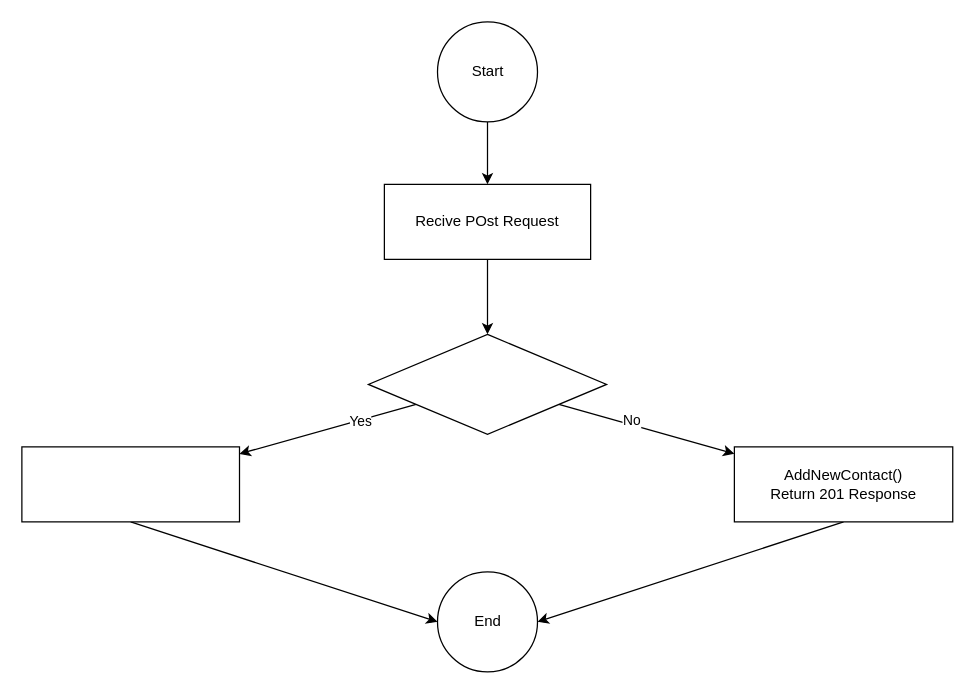
This 975x694 diagram has some shape labels left out. Each missing label, with the box of its shape:
Is Contact Available or Not?: (367, 333, 607, 434)
SendResponseError() Return 409: (21, 446, 240, 522)
